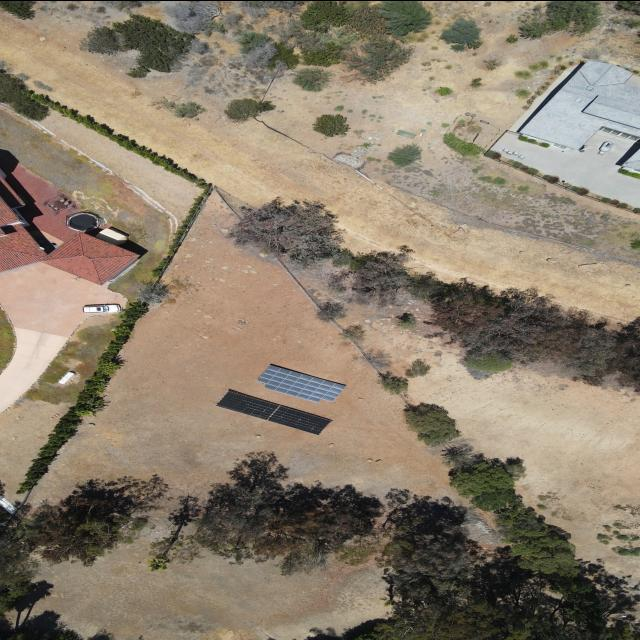solar-panels: (255, 362, 346, 408)
